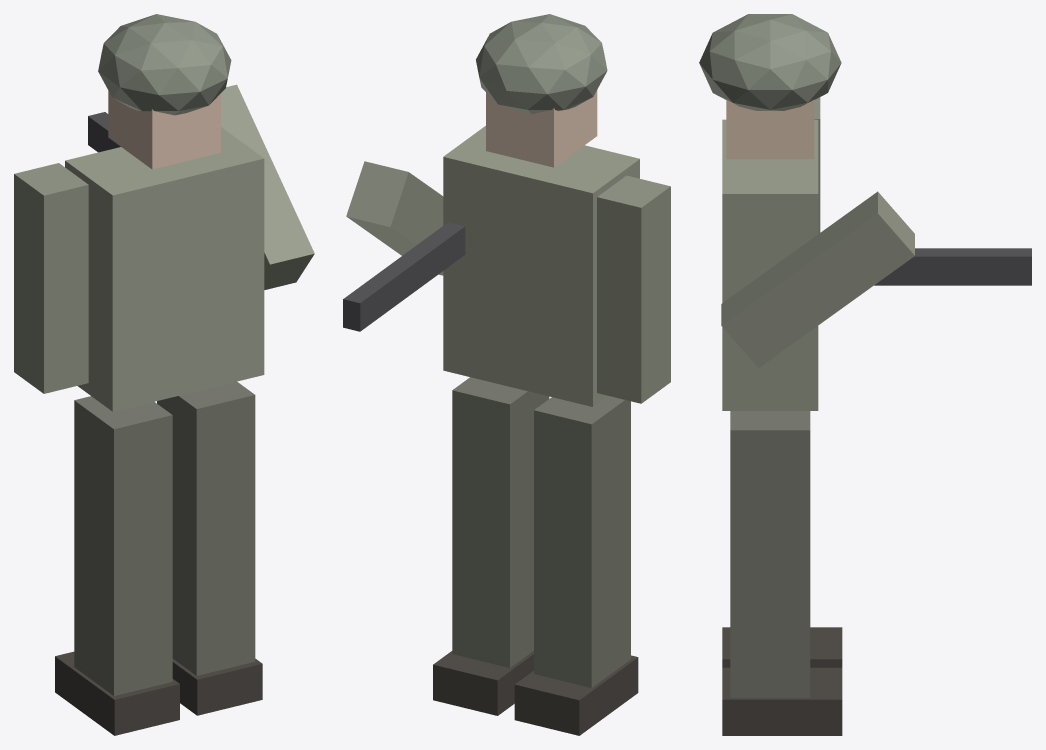
Rendered from soldier.glb.
The picture shows the model from 3 angles, left to right: view 1: azimuth 30°, elevation 25°; view 2: azimuth 150°, elevation 25°; view 3: azimuth 270°, elevation 25°; orthographic projection.
Parts seen in each view (by area): view 1: Soldier; view 2: Soldier; view 3: Soldier.
Part boxes in pixels (x1,y1,x2,y2): Soldier: (14, 14, 314, 735); Soldier: (343, 14, 670, 735); Soldier: (699, 14, 1031, 735).
Size of the model in its own units: 0.73 by 1.88 by 0.8335.
